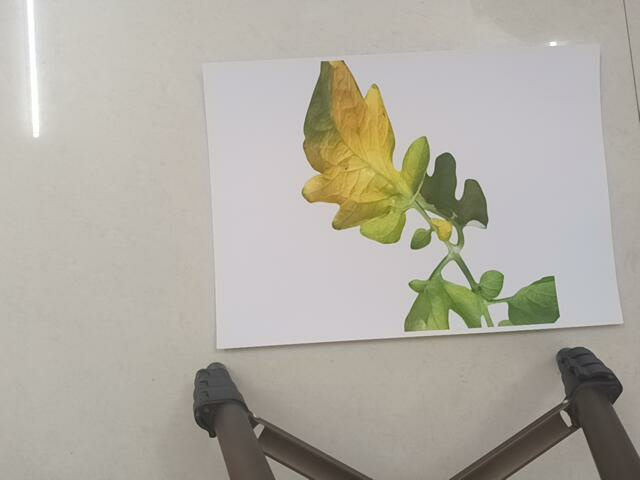Tomamto_Yellow_Disease: (283, 58, 593, 331)
